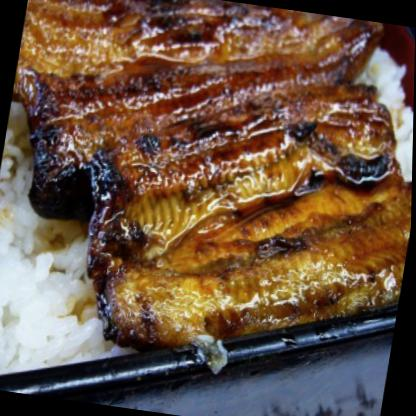eel: (0, 0, 415, 327)
